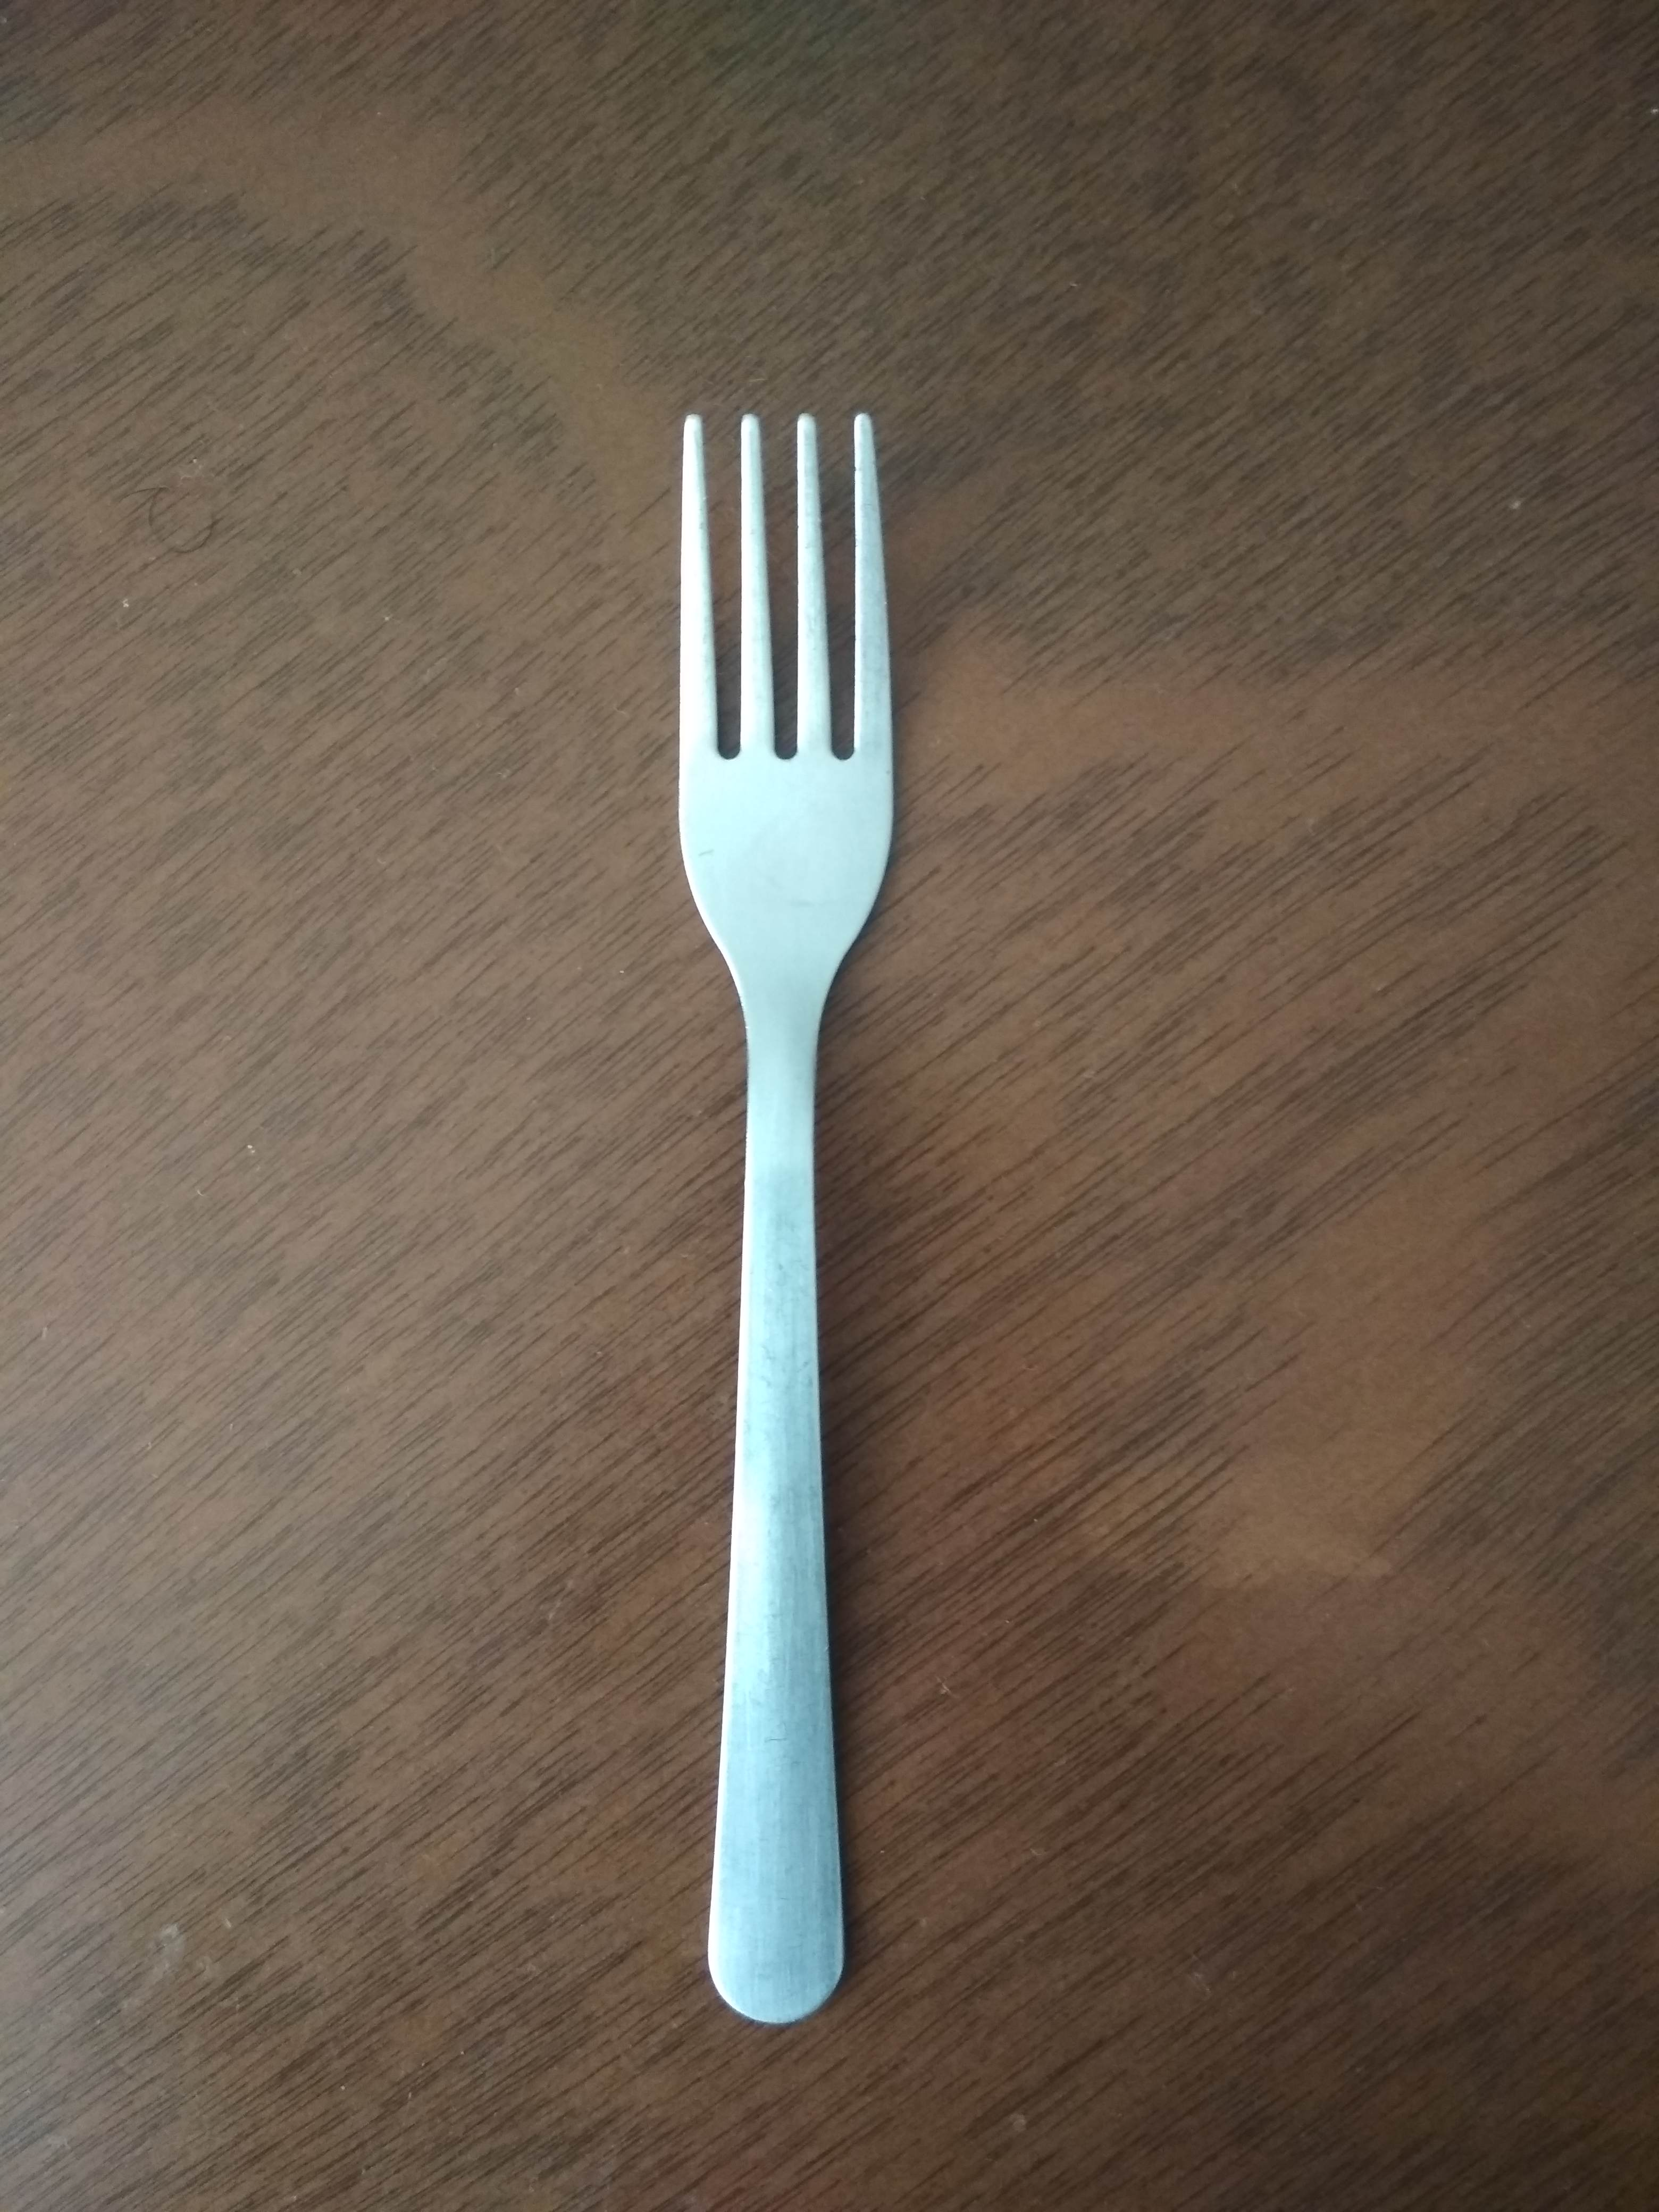fork: (647, 385, 915, 2036)
